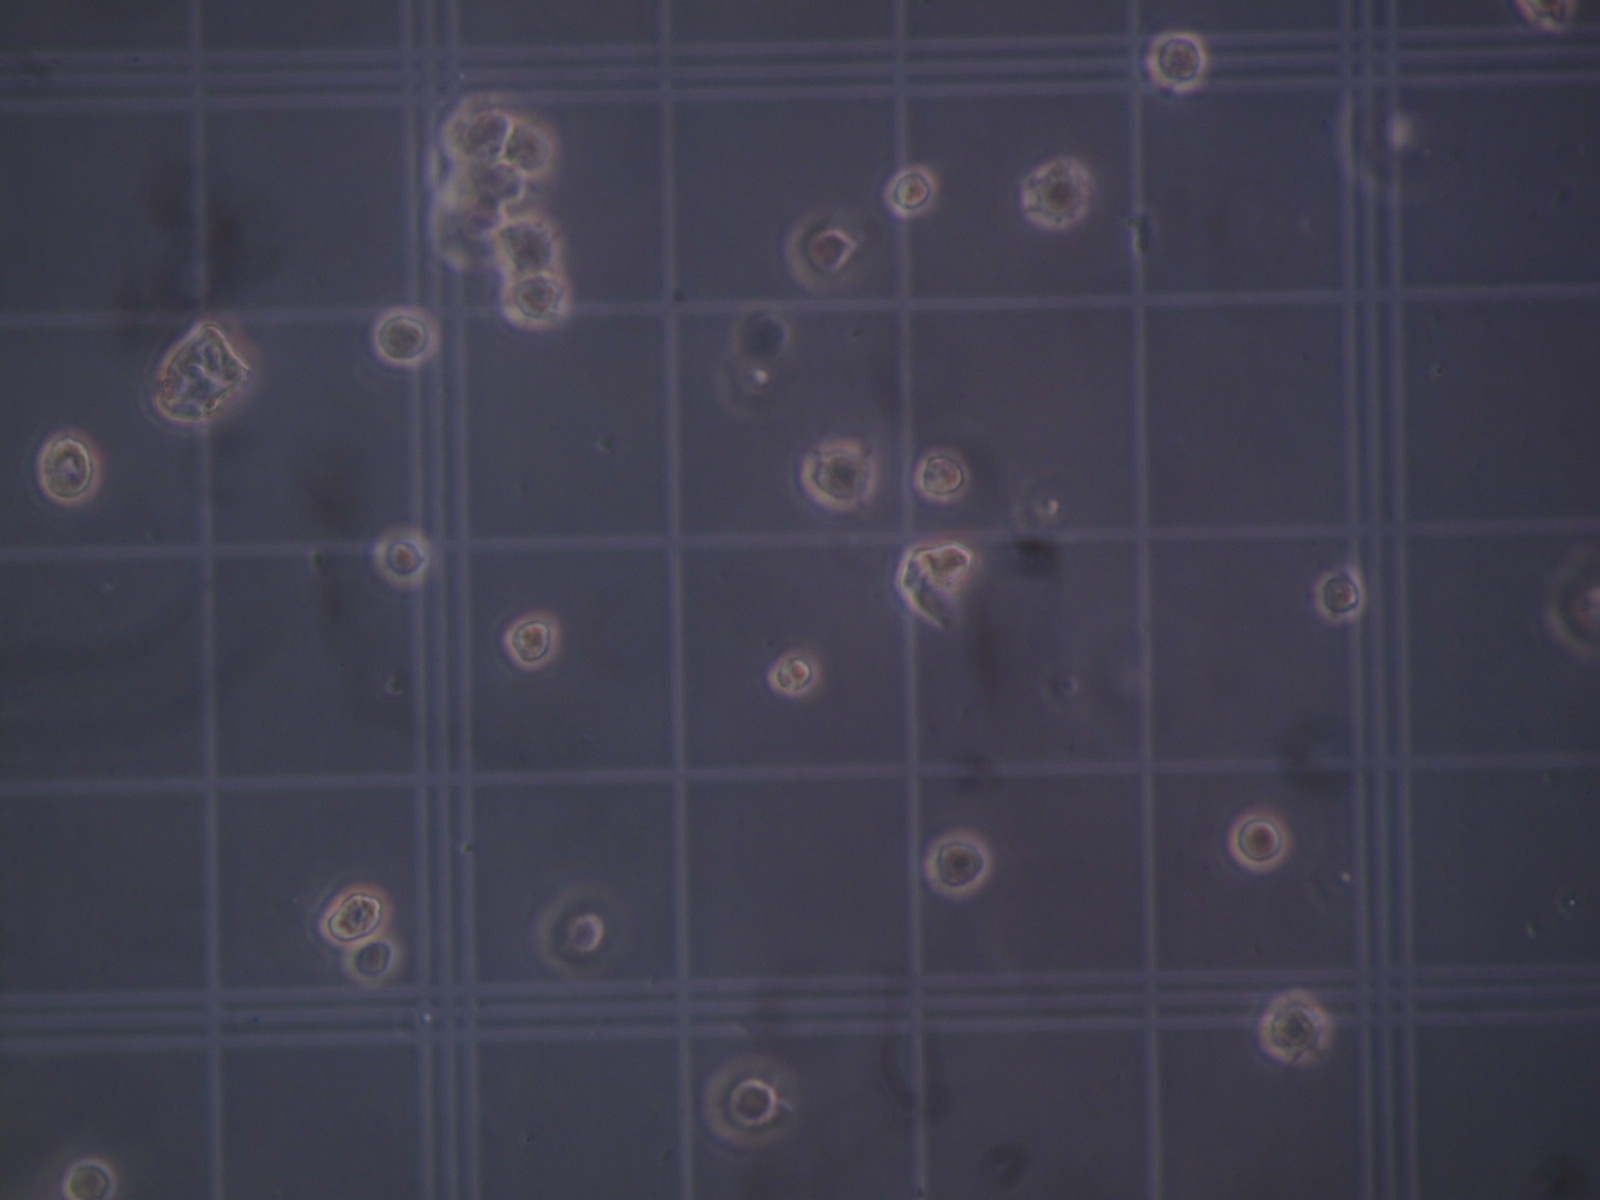hemo: (427, 176, 508, 270), (702, 1055, 784, 1146), (534, 887, 607, 979), (1543, 555, 1599, 658), (784, 213, 855, 291), (800, 440, 876, 512), (1259, 989, 1329, 1063), (1020, 159, 1091, 229), (441, 100, 515, 165), (37, 429, 101, 504), (319, 884, 392, 948), (925, 829, 991, 897), (494, 216, 563, 276), (731, 305, 792, 372), (372, 306, 440, 367), (501, 274, 571, 330), (1146, 30, 1208, 93), (1228, 811, 1290, 872), (373, 527, 431, 587), (503, 611, 559, 671), (915, 446, 971, 504), (505, 118, 557, 179), (1313, 566, 1366, 623), (883, 165, 939, 218), (344, 939, 401, 987), (474, 161, 529, 205), (62, 1157, 118, 1200), (769, 650, 820, 696), (1516, 1, 1575, 33)
